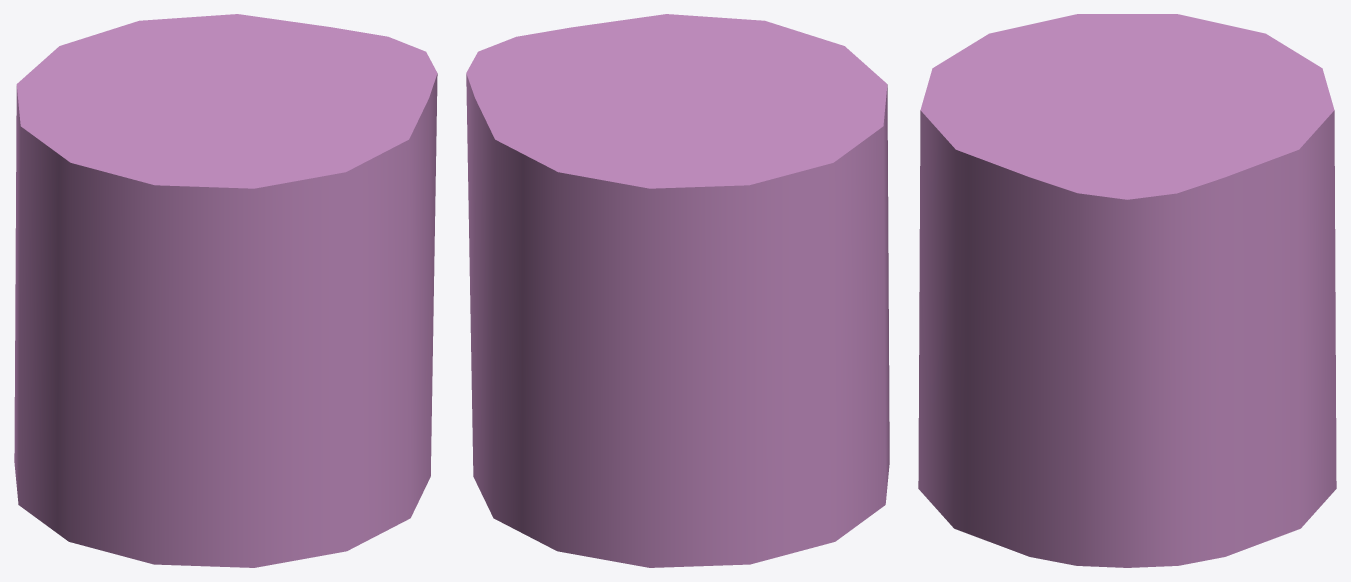
Rendered from liquidillo1.FBX.
3 renders of one model, left to right at view 1: azimuth 30°, elevation 25°; view 2: azimuth 150°, elevation 25°; view 3: azimuth 270°, elevation 25°, orthographic.
Visible parts, largest first — view 1: liquidillo2_low; view 2: liquidillo2_low; view 3: liquidillo2_low.
Part boxes in pixels (x1,y1,x2,y2): liquidillo2_low: [14, 14, 437, 567]; liquidillo2_low: [466, 14, 889, 567]; liquidillo2_low: [918, 14, 1336, 567].
Size of the model in its own units: 5.96 by 5.64 by 5.64.
